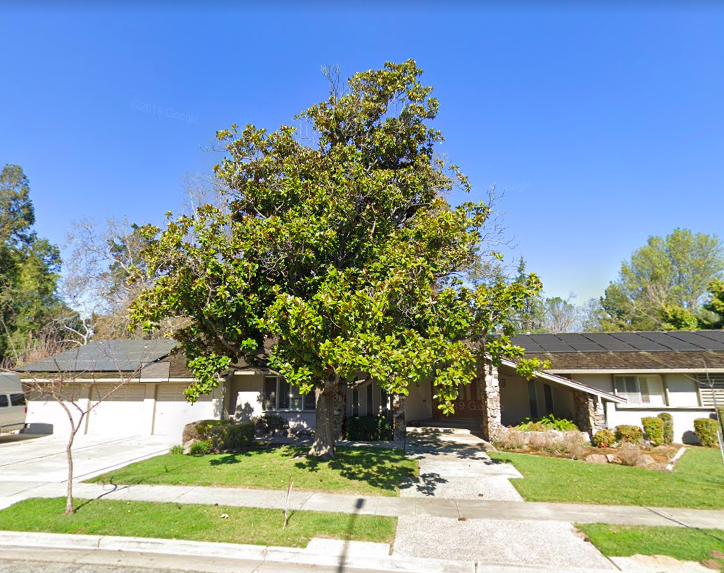tree: (124, 56, 552, 458)
